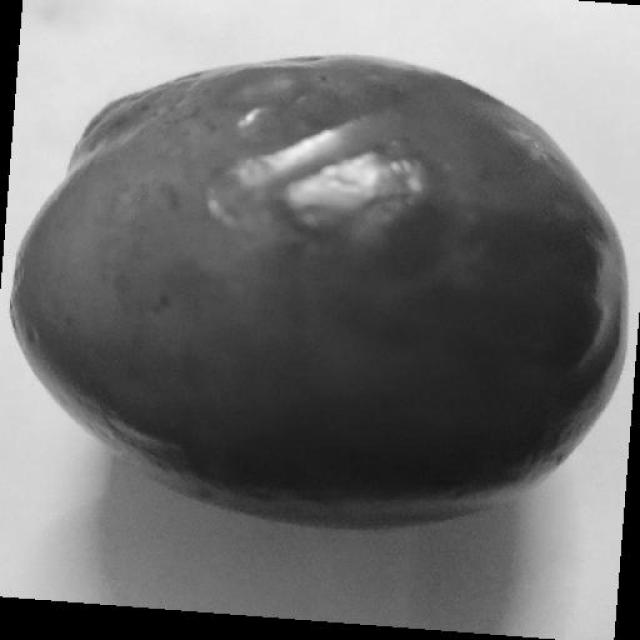Stale_tomato: (1, 53, 636, 487)
